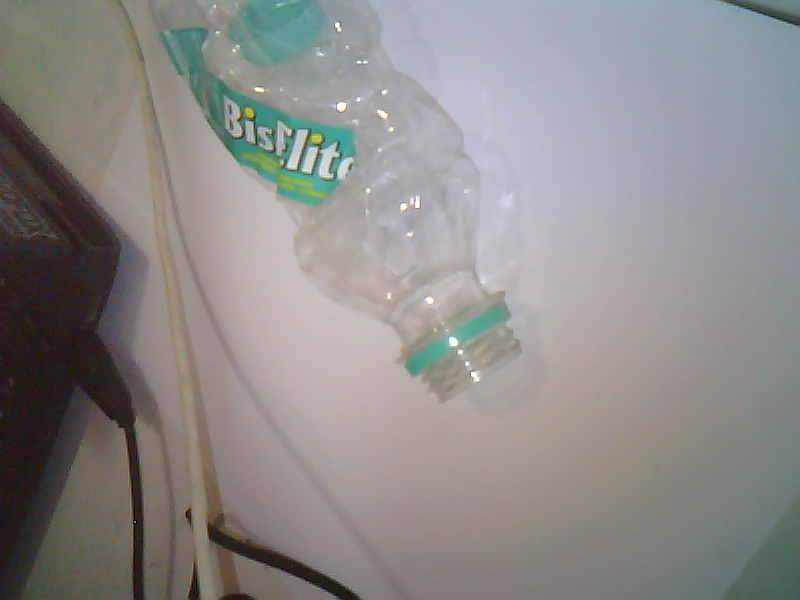non-biodegradable: (153, 0, 520, 399)
